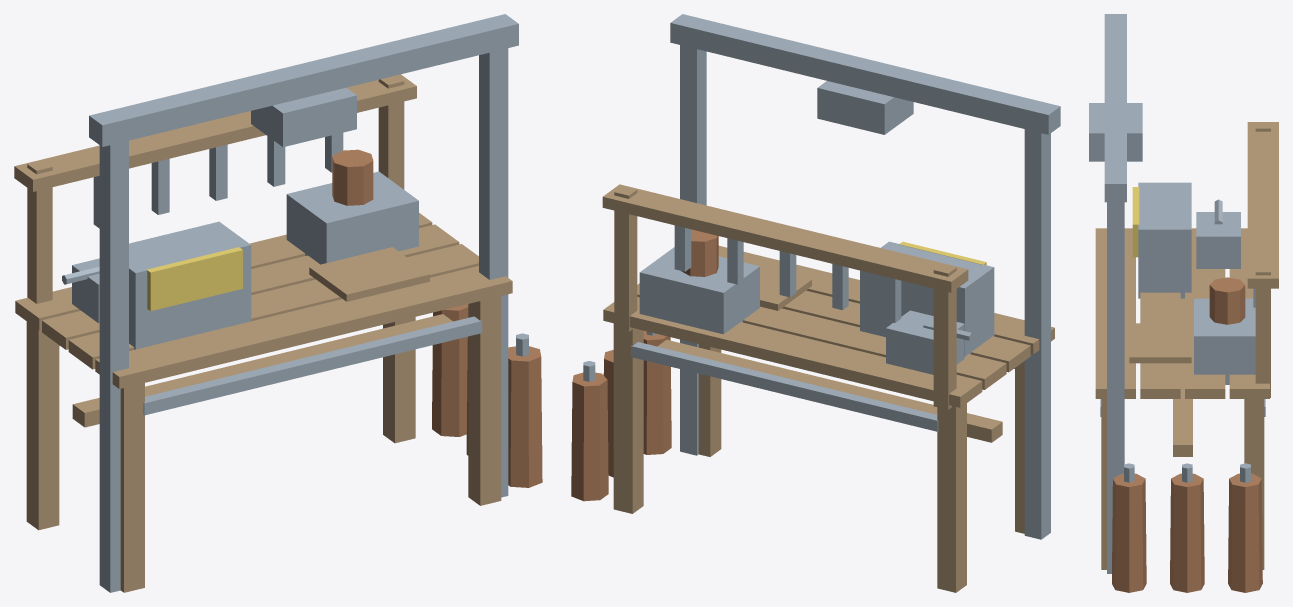
The model's file is wipe-day-survival-island-workbench-tier-three-375e80c8__27466.glb.
3 renders of one model, left to right at view 1: azimuth 30°, elevation 25°; view 2: azimuth 150°, elevation 25°; view 3: azimuth 270°, elevation 25°, orthographic. The views are drawn at different scales.
Parts seen in each view (by area): view 1: workbench-tier-three; view 2: workbench-tier-three; view 3: workbench-tier-three.
Boxes of the visible parts, x1,y1,x2,y2 form: workbench-tier-three: [14, 14, 542, 592]; workbench-tier-three: [571, 14, 1060, 592]; workbench-tier-three: [1089, 14, 1278, 592].
Size of the model in its own units: 1.96 by 1.95 by 0.85.
